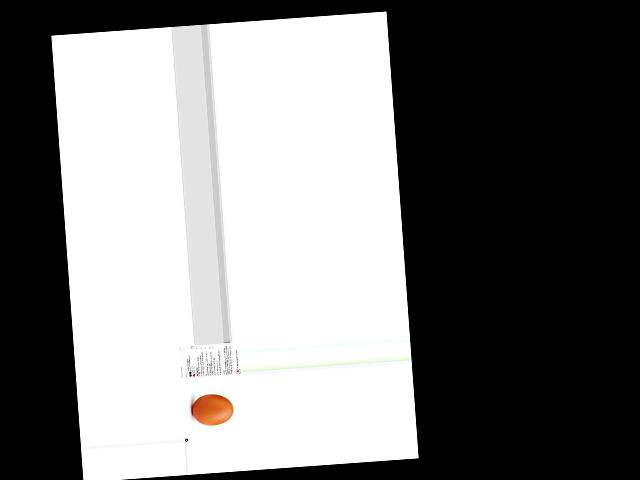egg: (191, 392, 233, 426)
